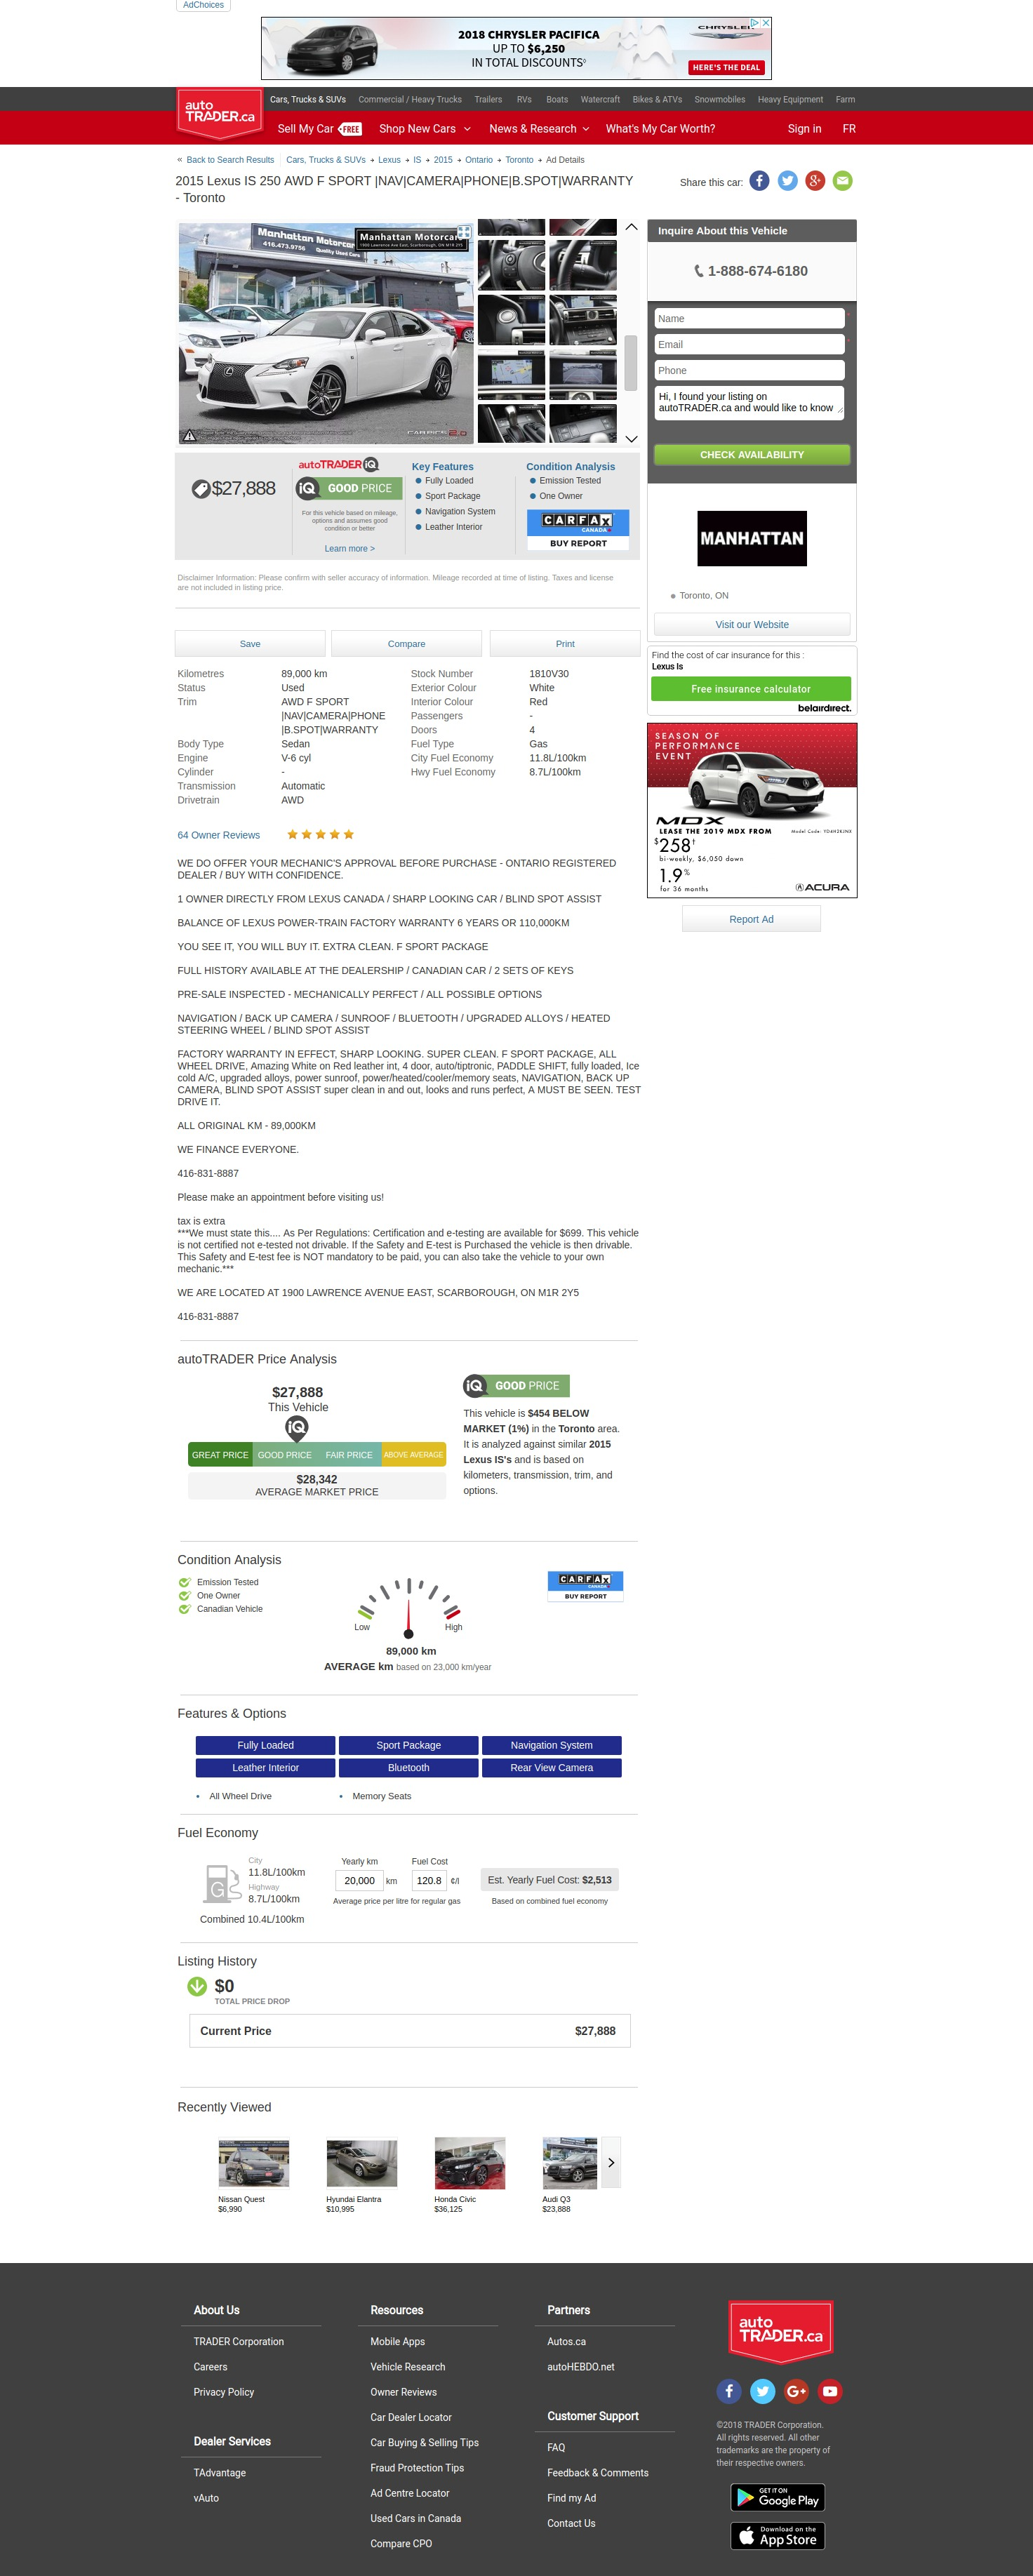car: (626, 435, 640, 445)
